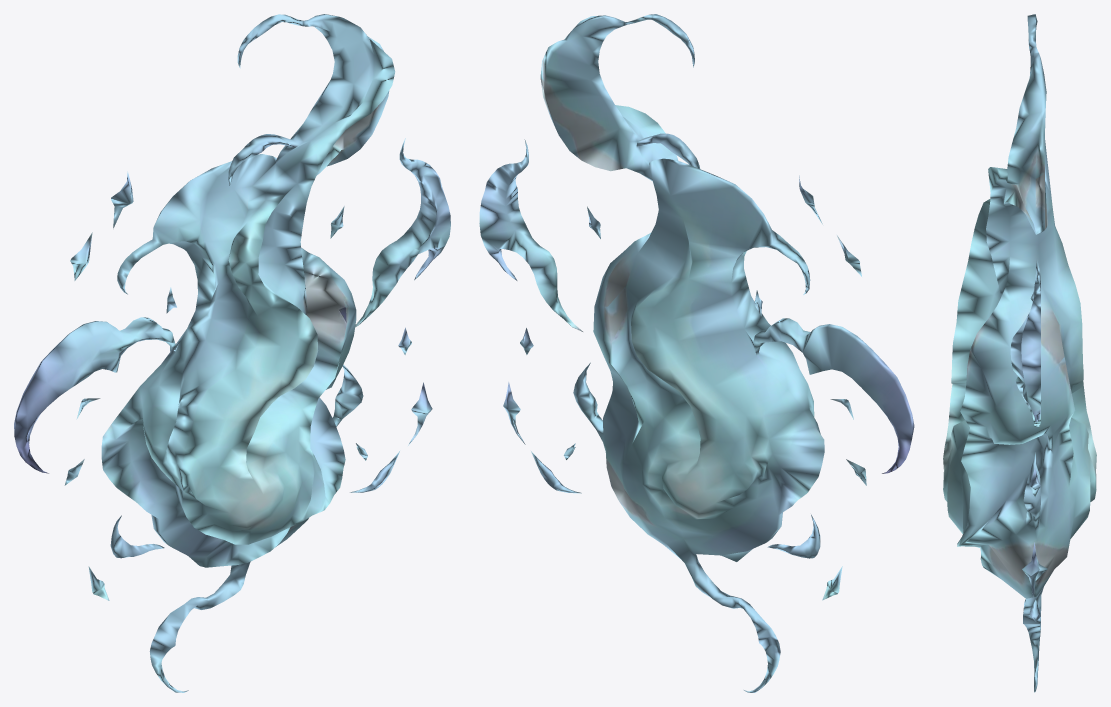
The model's file is seelenlicht_grablicht.glb.
3 views of the same model, side by side, from view 1: azimuth 30°, elevation 25°; view 2: azimuth 150°, elevation 25°; view 3: azimuth 270°, elevation 25° (orthographic). The views are drawn at different scales.
Visible parts, largest first — view 1: baum; view 2: baum; view 3: baum.
Boxes of the visible parts, x1,y1,x2,y2 form: baum: [14, 14, 450, 692]; baum: [479, 14, 914, 692]; baum: [943, 14, 1096, 692].
Size of the model in its own units: 0.554 by 0.8 by 0.1542.
1 material, 1 textured.
